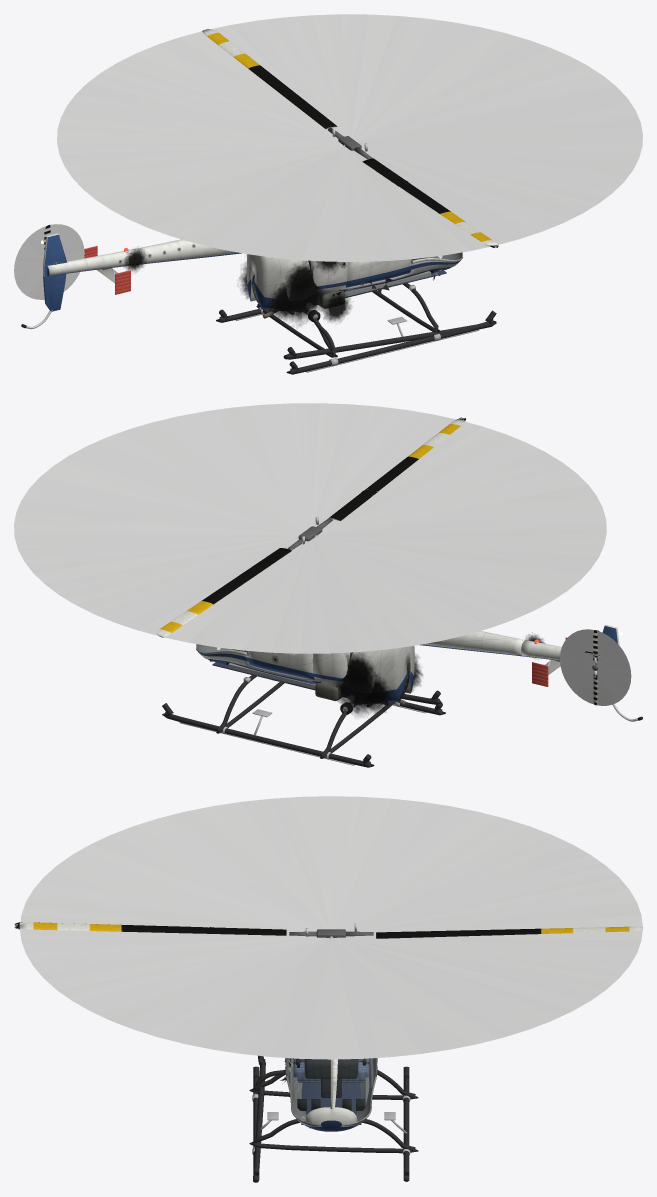
3 renders of one model, top to bottom at view 1: azimuth 30°, elevation 25°; view 2: azimuth 150°, elevation 25°; view 3: azimuth 270°, elevation 25°, orthographic. The views are drawn at different scales.
Parts seen in each view (by area): view 1: Rotor_Disc, TailRotor_Disc, Cowl_Belly, Cabin_Skin, Dmg_Soot_Engine_0, Blade_B, Boom_Fwd, Blade_A, Fin, Skid_R, Door_R_Skin, Dmg_Skid_R_Bent (+6 smaller); view 2: Rotor_Disc, TailRotor_Disc, Cowl_Belly, Cabin_Skin, Dmg_Soot_EngineL_0, Blade_B, Blade_A, Skid_L, Boom_Fwd, Door_L_Skin, Cross_Front, Cross_Rear (+3 smaller); view 3: Rotor_Disc, Glass_Windshield, Cabin_Skin, Blade_A, Blade_B, Cross_Front, Cabin_Floor, Panel_Pod, Cross_Rear, Skid_L, Dmg_Skid_R_Bent, Rotor_Hub.
Boxes of the visible parts, <box> form: Rotor_Disc: <box>57,14,642,261</box>; TailRotor_Disc: <box>14,224,84,299</box>; Cowl_Belly: <box>246,254,310,310</box>; Cabin_Skin: <box>310,252,462,295</box>; Dmg_Soot_Engine_0: <box>275,269,330,326</box>; Blade_B: <box>202,29,337,129</box>; Boom_Fwd: <box>137,239,241,264</box>; Blade_A: <box>362,158,497,245</box>; Fin: <box>43,233,67,311</box>; Skid_R: <box>286,319,496,374</box>; Door_R_Skin: <box>345,259,411,287</box>; Dmg_Skid_R_Bent: <box>283,310,496,359</box>; Rotor_Disc: <box>14,403,606,653</box>; TailRotor_Disc: <box>560,629,631,705</box>; Cowl_Belly: <box>350,646,414,702</box>; Cabin_Skin: <box>196,644,350,687</box>; Dmg_Soot_EngineL_0: <box>333,660,384,716</box>; Blade_B: <box>157,548,291,637</box>; Blade_A: <box>329,419,463,520</box>; Skid_L: <box>162,703,374,767</box>; Boom_Fwd: <box>420,631,524,656</box>; Door_L_Skin: <box>248,651,314,679</box>; Cross_Front: <box>216,675,284,733</box>; Cross_Rear: <box>320,702,400,759</box>; Rotor_Disc: <box>20,796,642,1059</box>; Glass_Windshield: <box>286,1058,376,1121</box>; Cabin_Skin: <box>286,1058,376,1131</box>; Blade_A: <box>20,922,286,935</box>; Blade_B: <box>376,926,642,938</box>; Cross_Front: <box>249,1119,418,1154</box>; Cabin_Floor: <box>301,1082,361,1124</box>; Panel_Pod: <box>304,1059,358,1078</box>; Cross_Rear: <box>249,1070,418,1101</box>; Skid_L: <box>403,1066,409,1181</box>; Dmg_Skid_R_Bent: <box>253,1055,265,1182</box>; Rotor_Hub: <box>289,923,373,938</box>.
Size of what is drawn, in the model's own units: 8.8 by 2.75 by 7.74.
38 materials, 13 textured.
